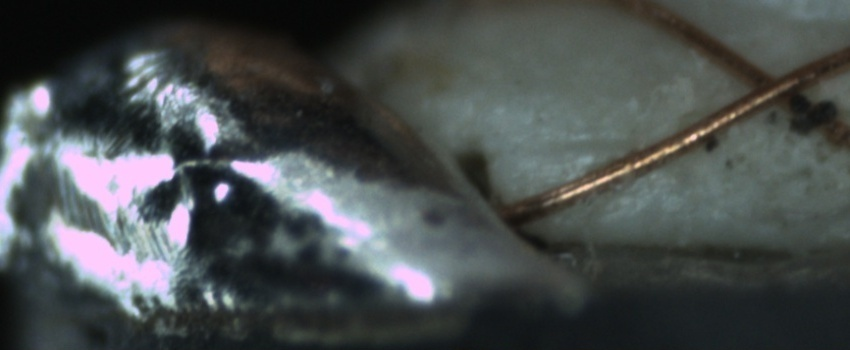CL: (724, 50, 818, 121)
DL: (515, 115, 640, 172)
